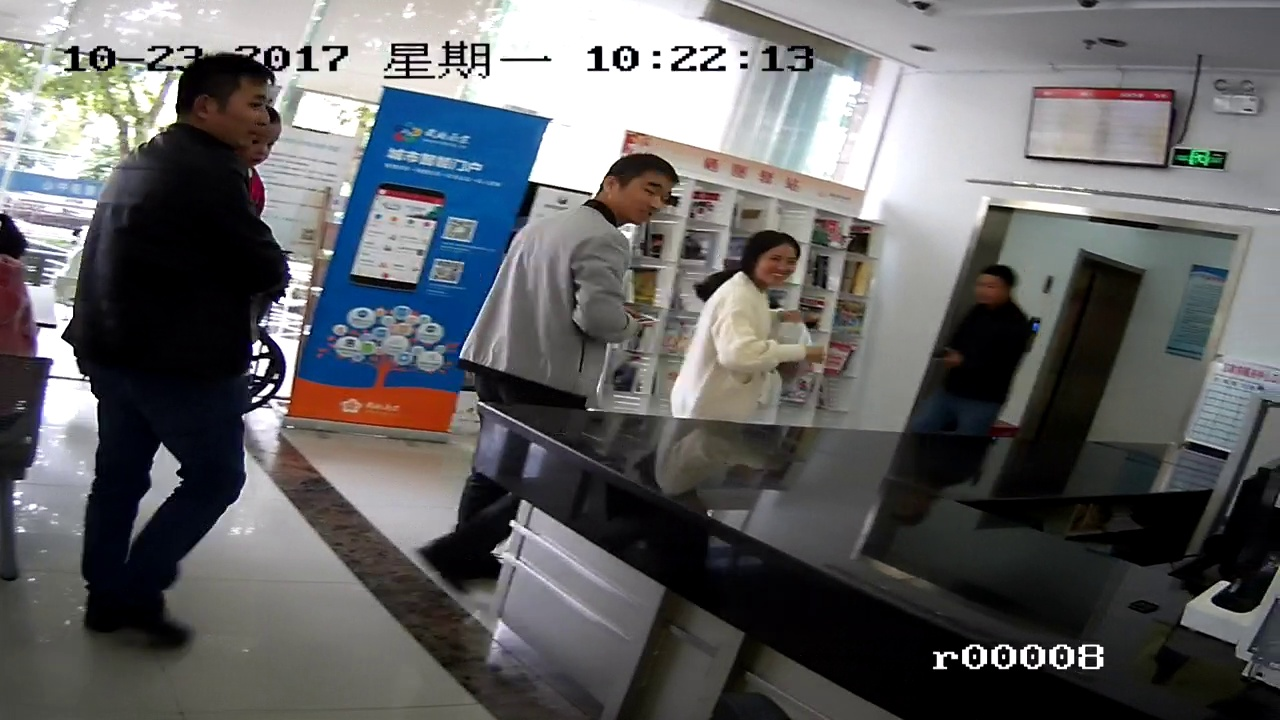person: (86, 51, 228, 624), (535, 141, 675, 375), (709, 216, 804, 404), (950, 258, 1022, 397), (234, 112, 302, 175)
